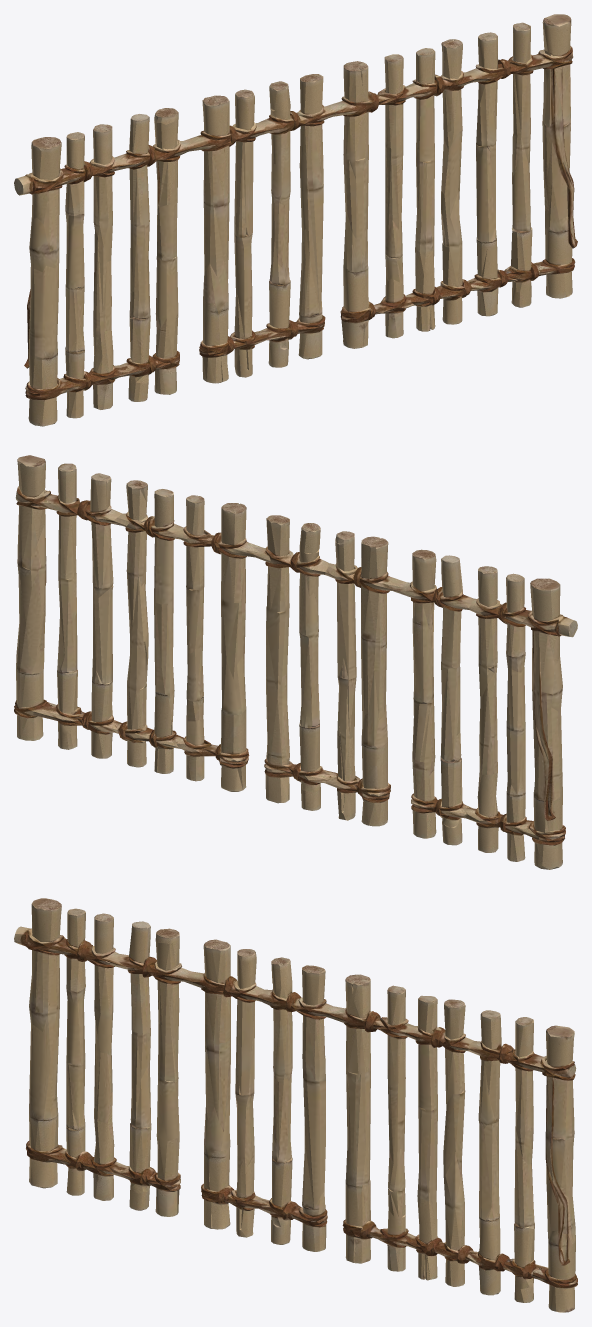
The model's file is corrimano_bambu.glb.
3 views of the same model, one above another, from view 1: azimuth 30°, elevation 25°; view 2: azimuth 150°, elevation 25°; view 3: azimuth 330°, elevation 25° (orthographic).
Parts seen in each view (by area): view 1: Mesh_0; view 2: Mesh_0; view 3: Mesh_0.
Boxes of the visible parts, <box> form: Mesh_0: <box>14,14,577,426</box>; Mesh_0: <box>14,455,577,869</box>; Mesh_0: <box>14,898,577,1312</box>.
Bounding box in the file's own units: 2 × 0.9725 × 0.1073.
Materials: 1 (1 with a texture image).
